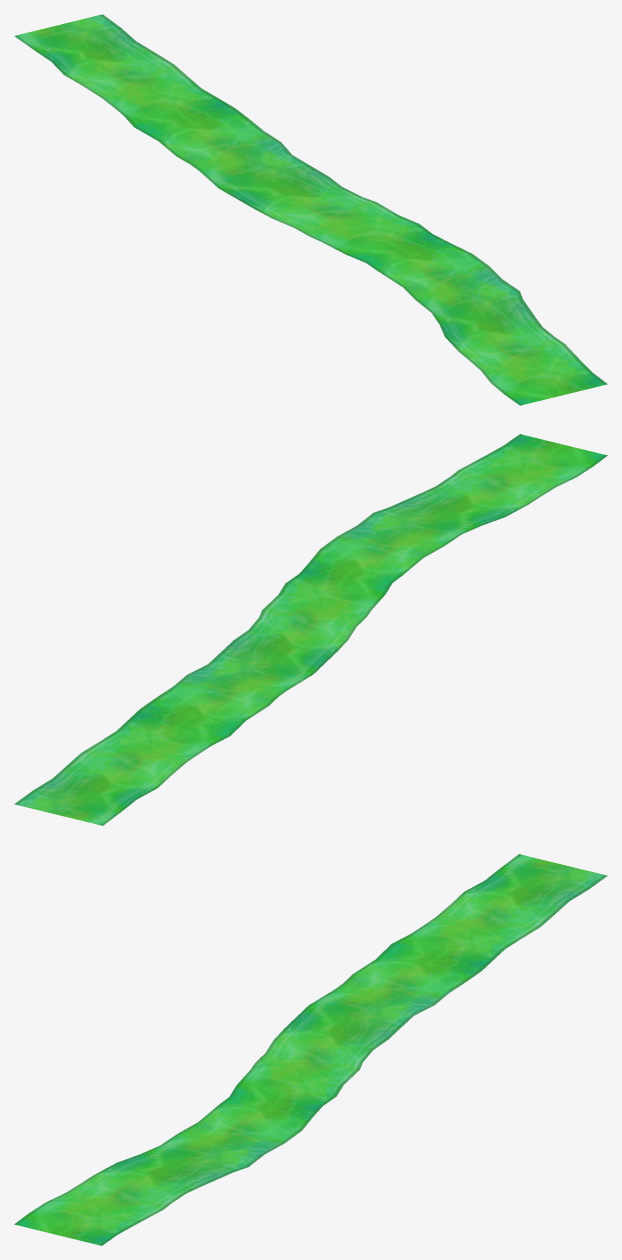
The model's file is Amazon02_Lu04.FBX.
The picture shows the model from 3 angles, top to bottom: view 1: azimuth 30°, elevation 25°; view 2: azimuth 150°, elevation 25°; view 3: azimuth 330°, elevation 25°; orthographic projection.
Parts seen in each view (by area): view 1: Amazon02_Lu04; view 2: Amazon02_Lu04; view 3: Amazon02_Lu04.
Boxes of the visible parts, x1,y1,x2,y2 form: Amazon02_Lu04: [14, 14, 607, 405]; Amazon02_Lu04: [14, 434, 607, 825]; Amazon02_Lu04: [14, 854, 607, 1245].
Size of the model in its own units: 1375 by 0.000244 by 9686.
